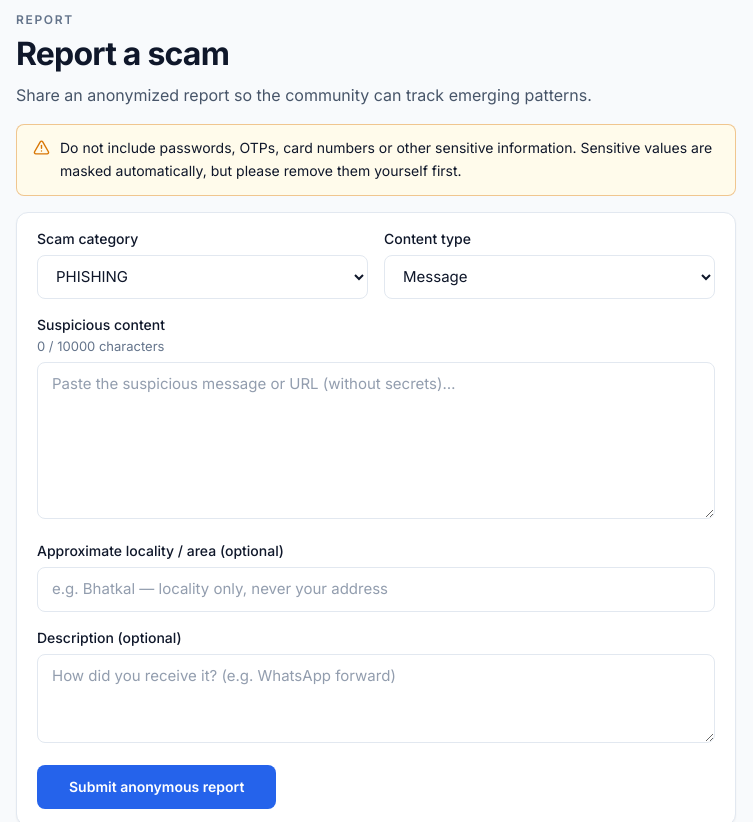
report flow › empty content is rejected client-side
Step 1. Click the button "Submit anonymous report" → [157, 787], box [37,765,276,809]
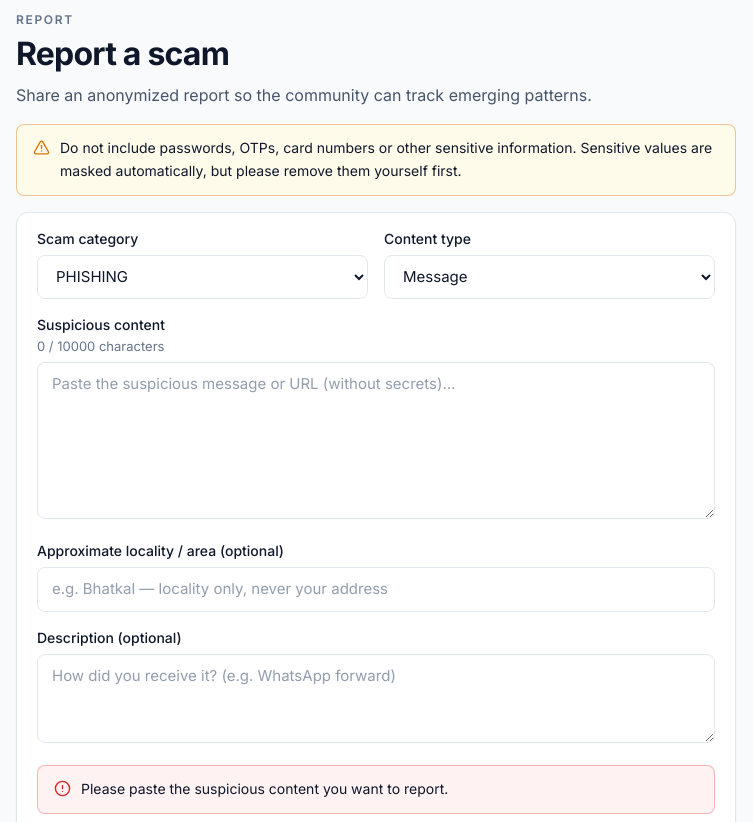
Result: the text "Please paste the suspicious content you want to report." is shown at [81,778,448,801]
